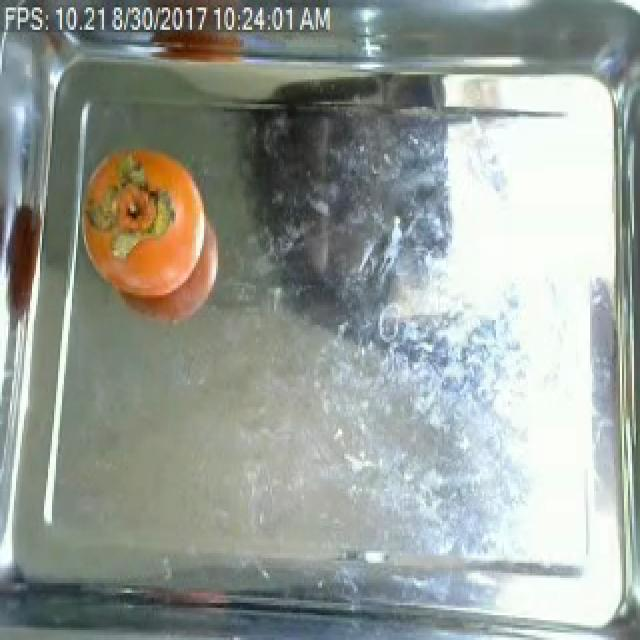Fruit: (80, 142, 210, 312)
